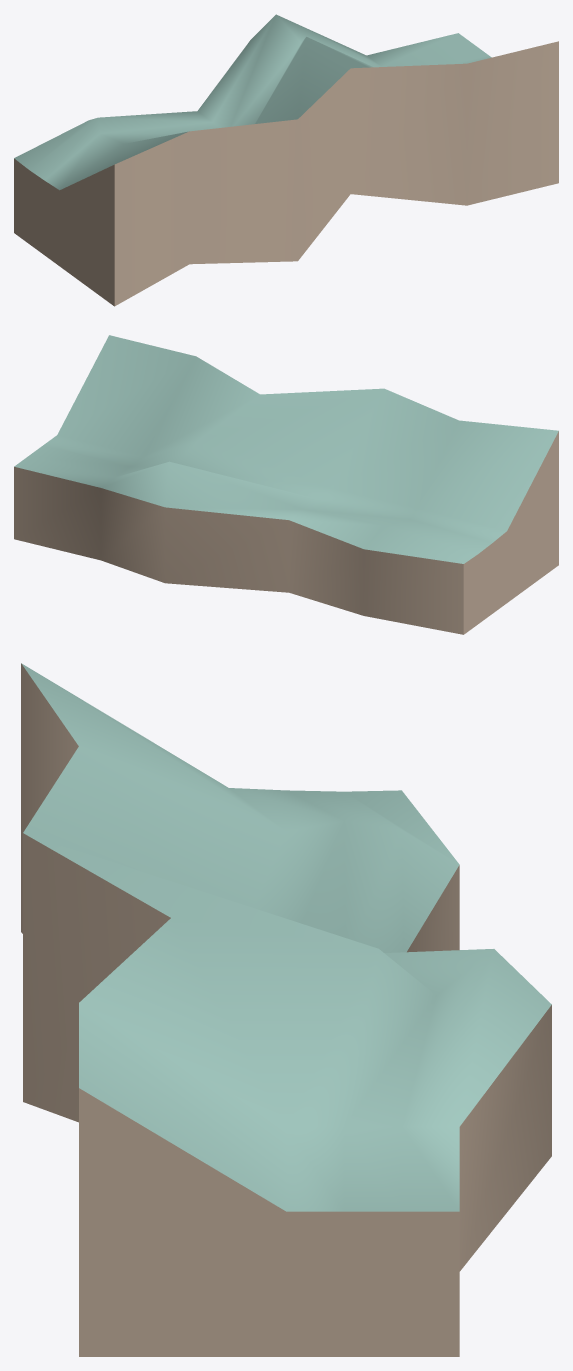
The model's file is englishChannelRightside.fbx.
The picture shows the model from 3 angles, top to bottom: view 1: azimuth 30°, elevation 25°; view 2: azimuth 150°, elevation 25°; view 3: azimuth 270°, elevation 25°; orthographic projection. The views are drawn at different scales.
Parts seen in each view (by area): view 1: pCube4; view 2: pCube4; view 3: pCube4.
Boxes of the visible parts, box(x1,y1,x2,y2) form: pCube4: box(14, 14, 558, 306); pCube4: box(14, 335, 558, 634); pCube4: box(21, 663, 551, 1356).
Bounding box in the file's own units: 85.95 × 25.37 × 45.38.
